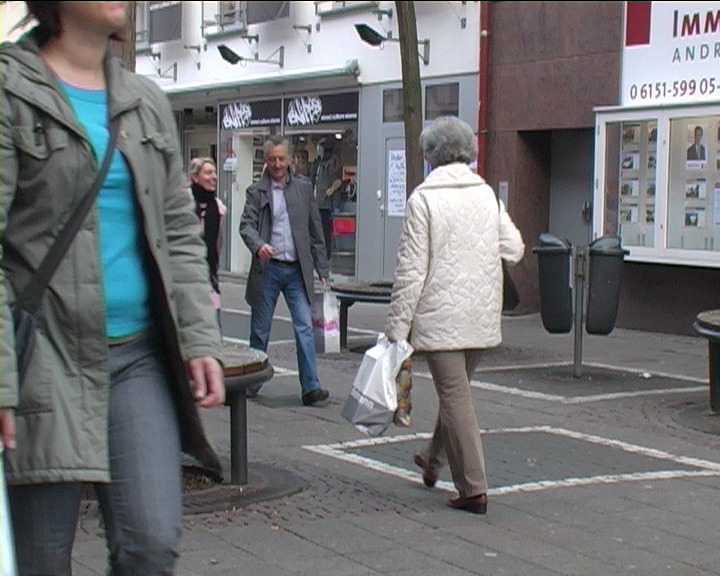undeflect: (406, 116, 497, 224), (242, 130, 313, 214)
